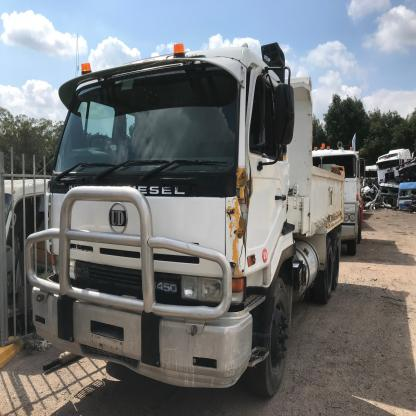dump_truck: (26, 54, 368, 395)
